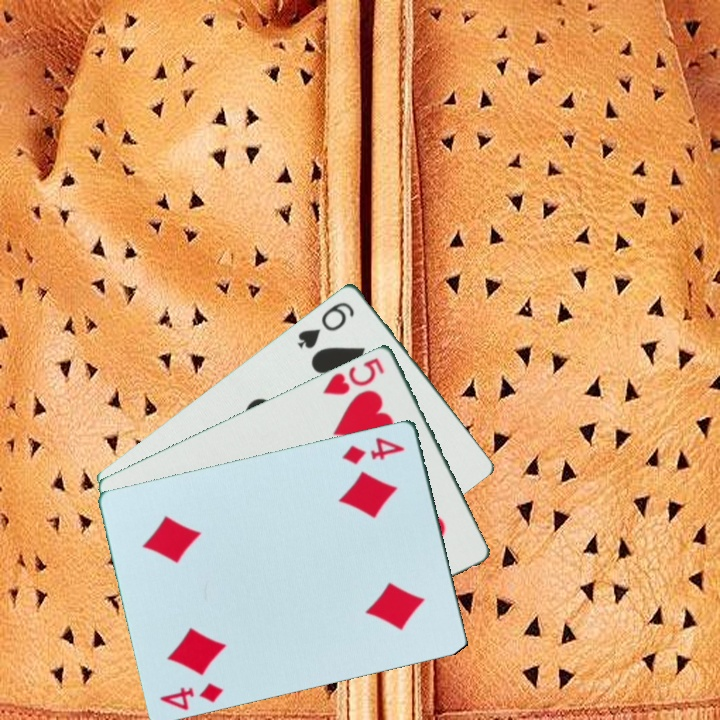4d: (157, 678, 226, 713), (338, 433, 408, 467)
5h: (319, 353, 388, 398)
6s: (294, 297, 358, 351)
